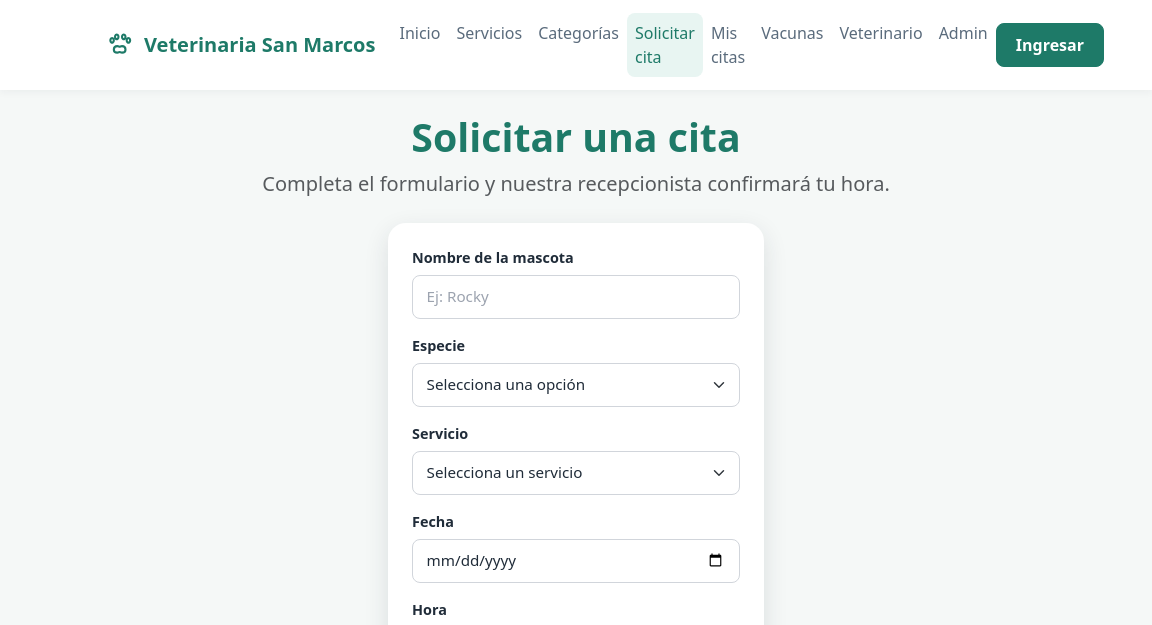
Página SolicitarCita › rechaza fechas pasadas
Type "2020-01-06" into the date field labelled "Fecha" at (576, 561), box [412,539,740,583]
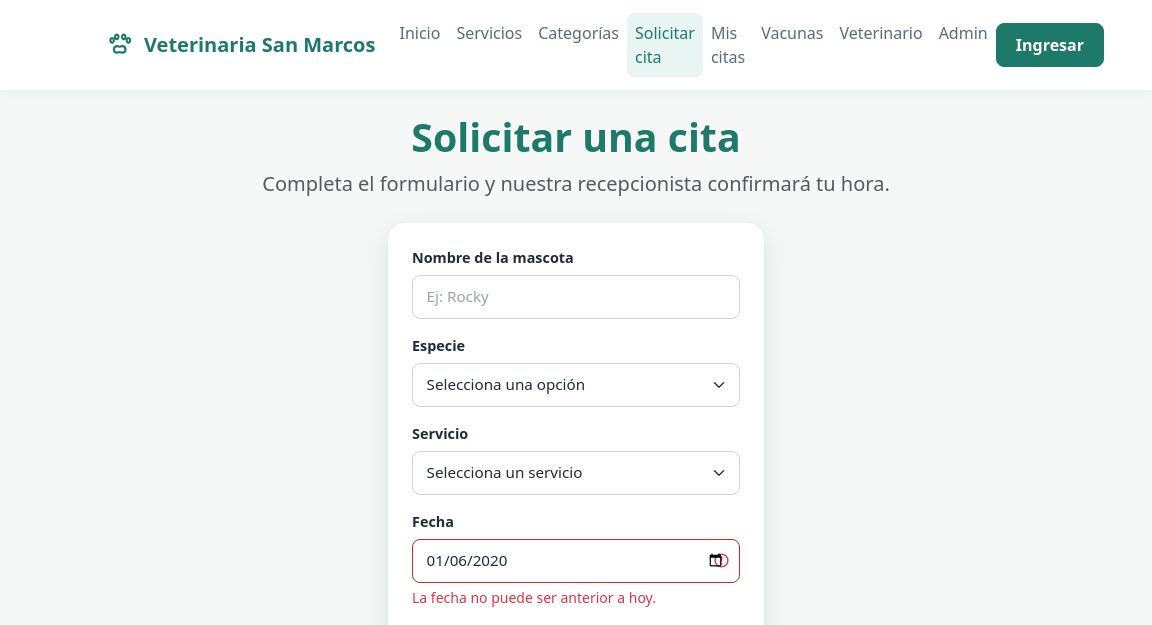
Expected: the text "La fecha no puede ser anterior a hoy." is shown, [412,588,656,607]
